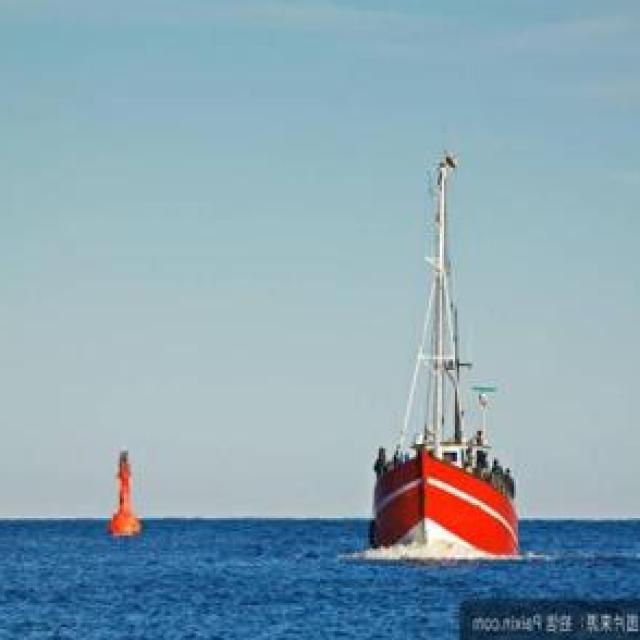fishing boat: (368, 147, 526, 564)
